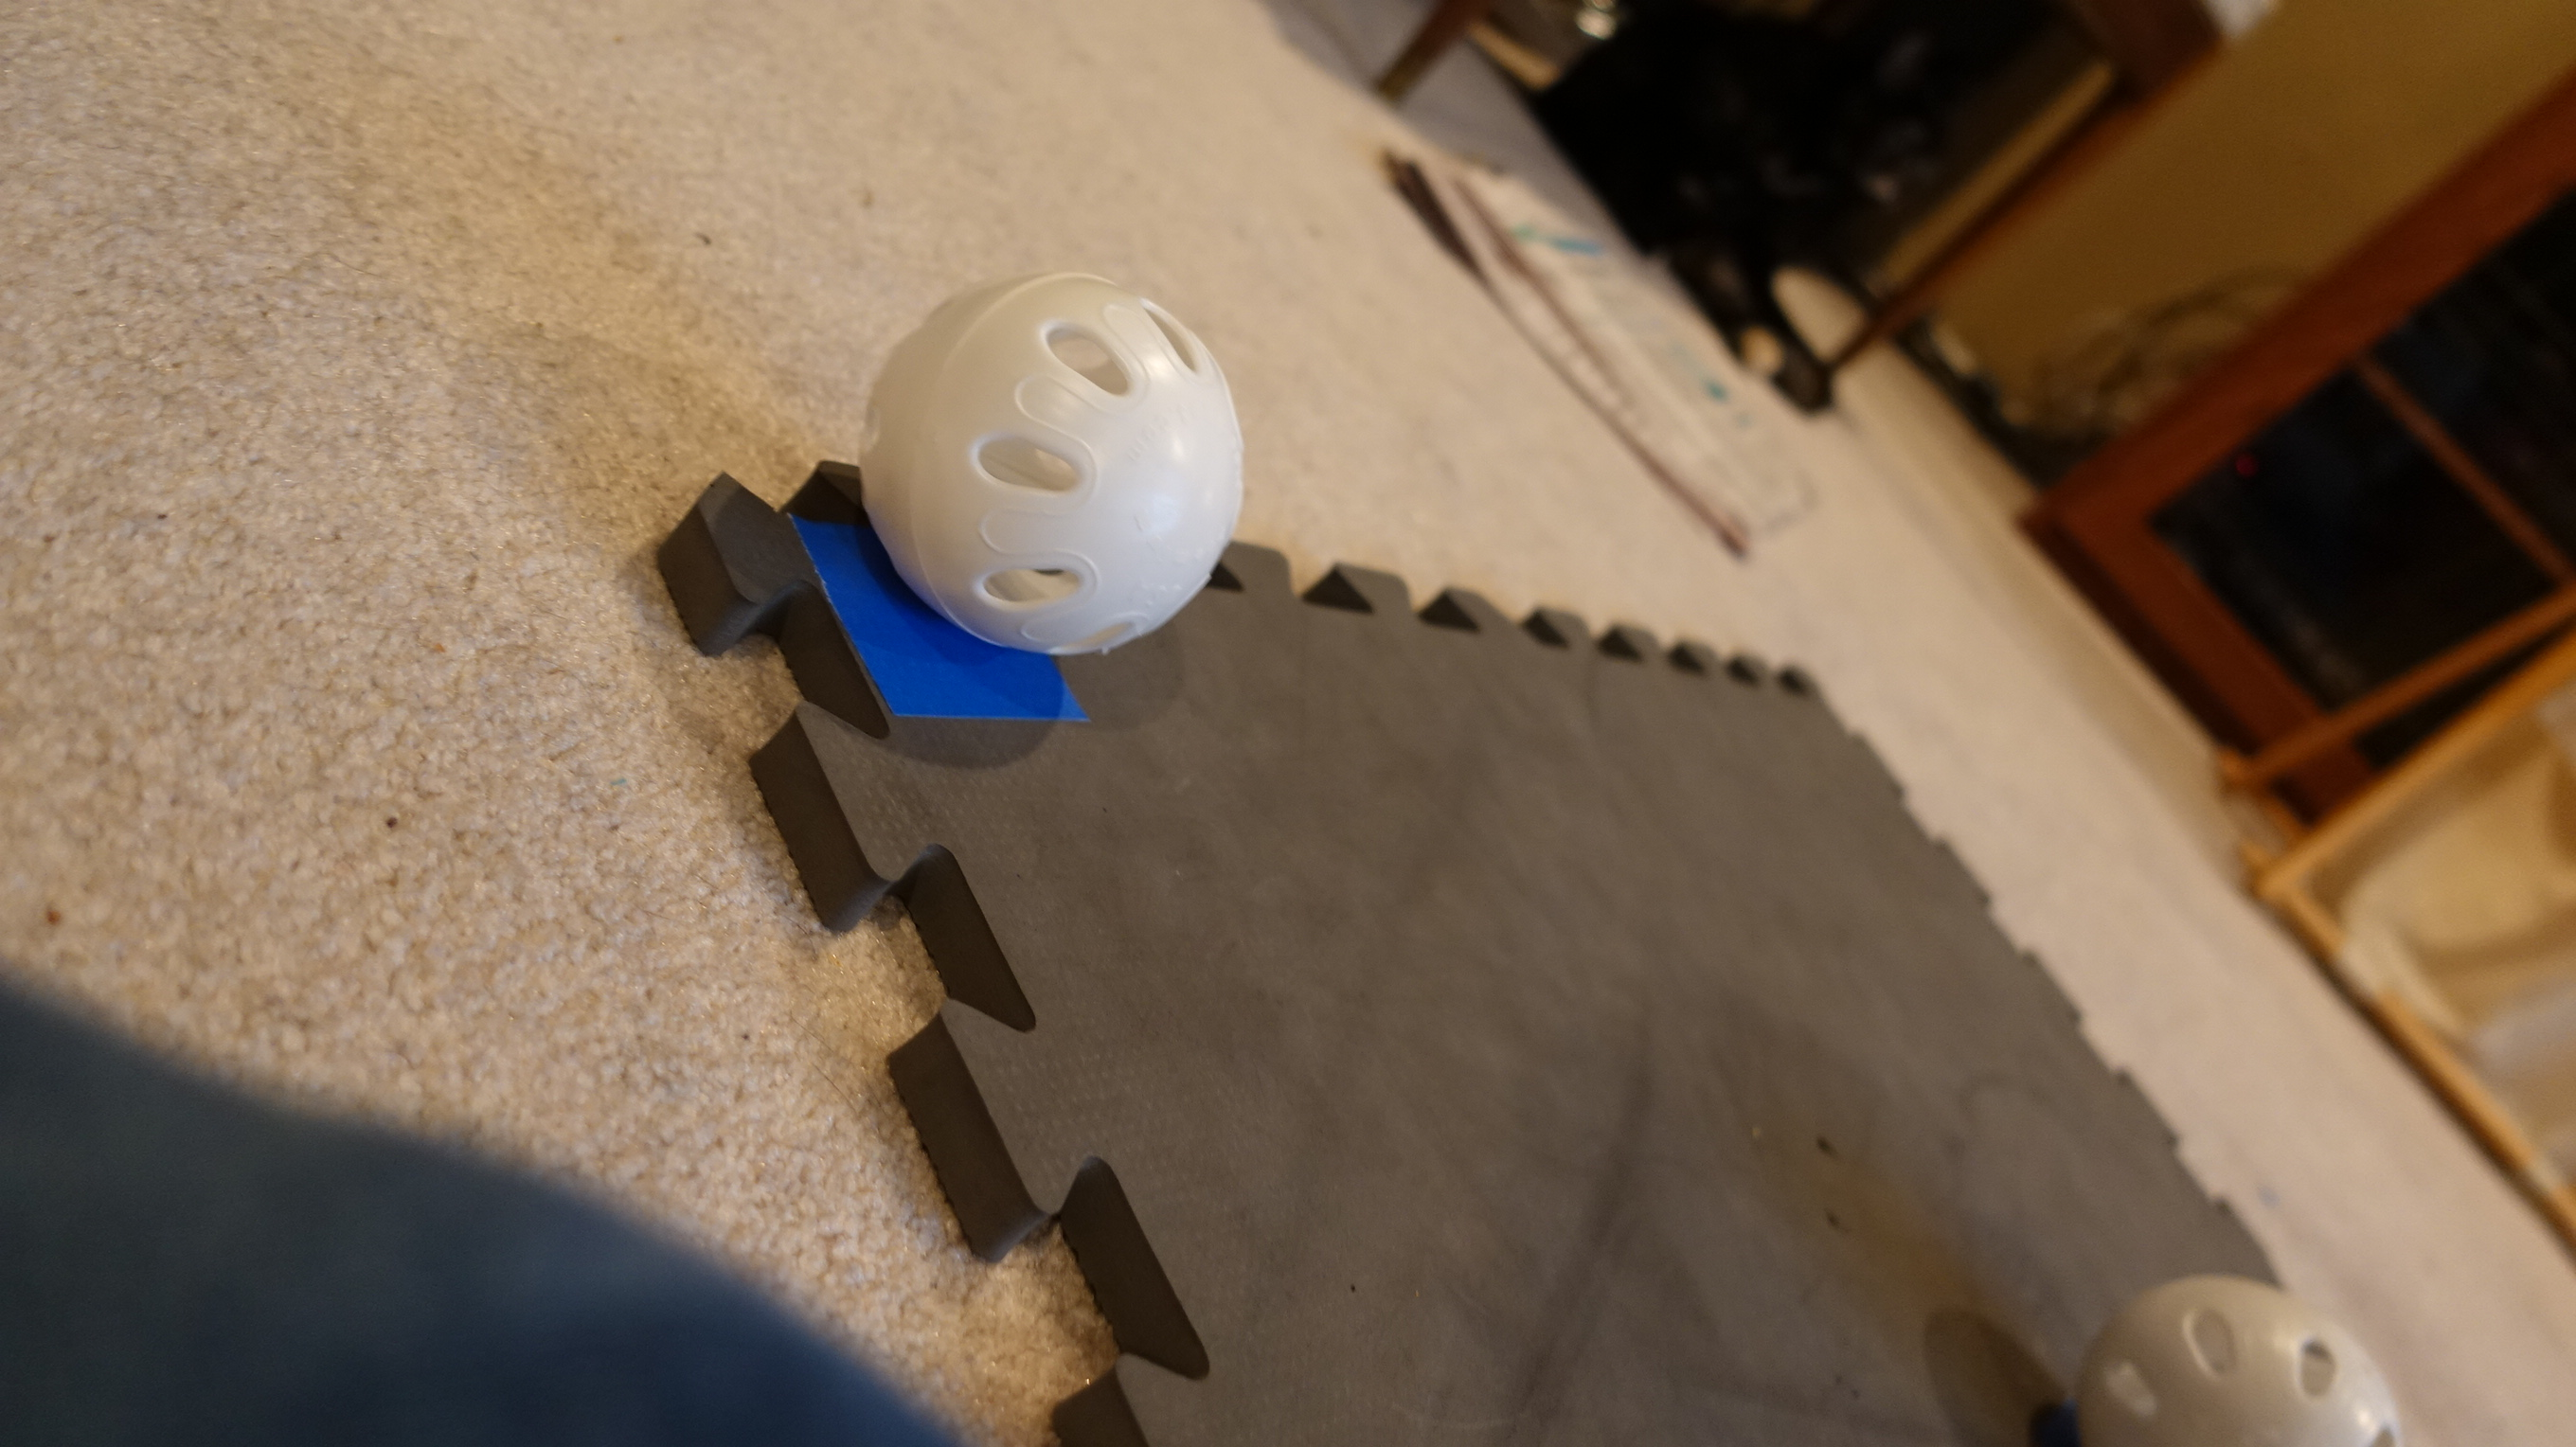silver: (860, 264, 1242, 662), (2058, 1270, 2419, 1447)
